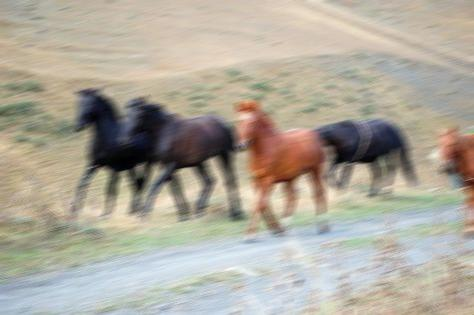horse: (117, 94, 242, 222), (233, 98, 330, 241), (71, 84, 155, 219), (310, 117, 418, 198), (435, 124, 474, 237)
